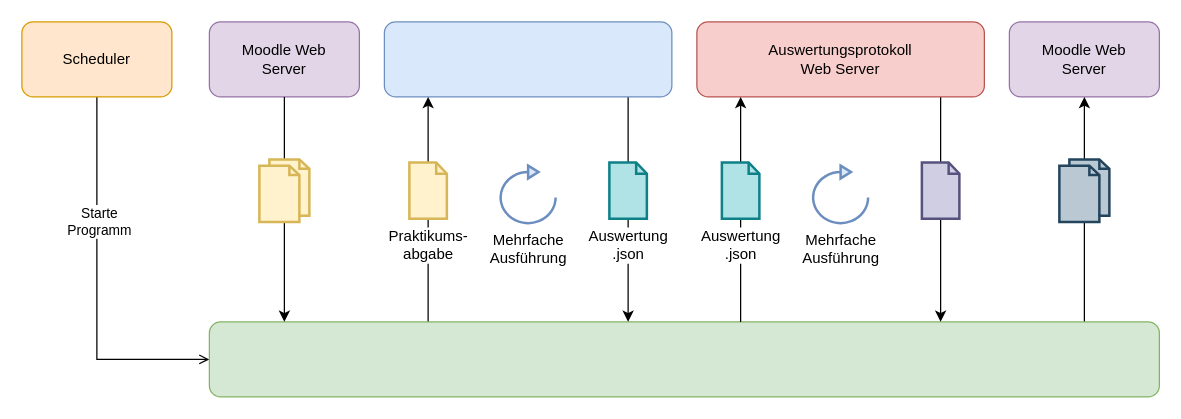
Some shapes in this 1181 by 419 pixel diagram are drawn without their labels. The shapes that lost their labels are listed below. From the top down, each one's centre as x and y in pixels, then its label:
At [527,59]: "Testbench API Server".
At [284,190]: "Praktikums- abgaben".
At [940,190]: "Auswertung .html".
At [1084,190]: "Auswertungs- protokolle".
At [683,359]: "Testbench Coordinator".
